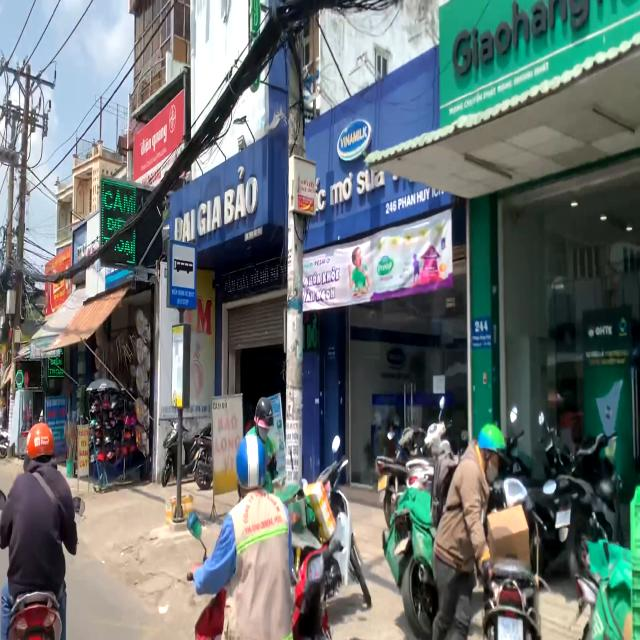R.434: (169, 238, 198, 311)
